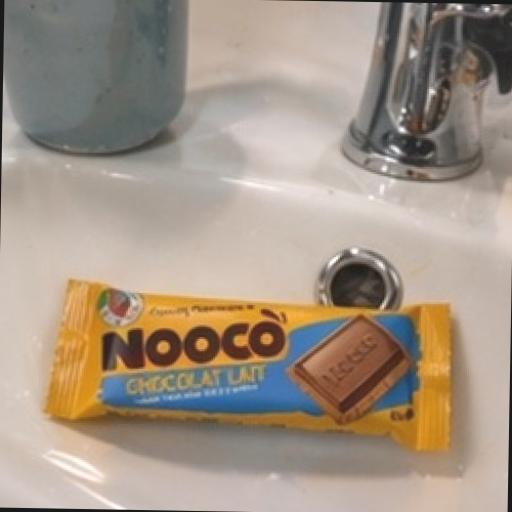nooco: (46, 270, 458, 483)
